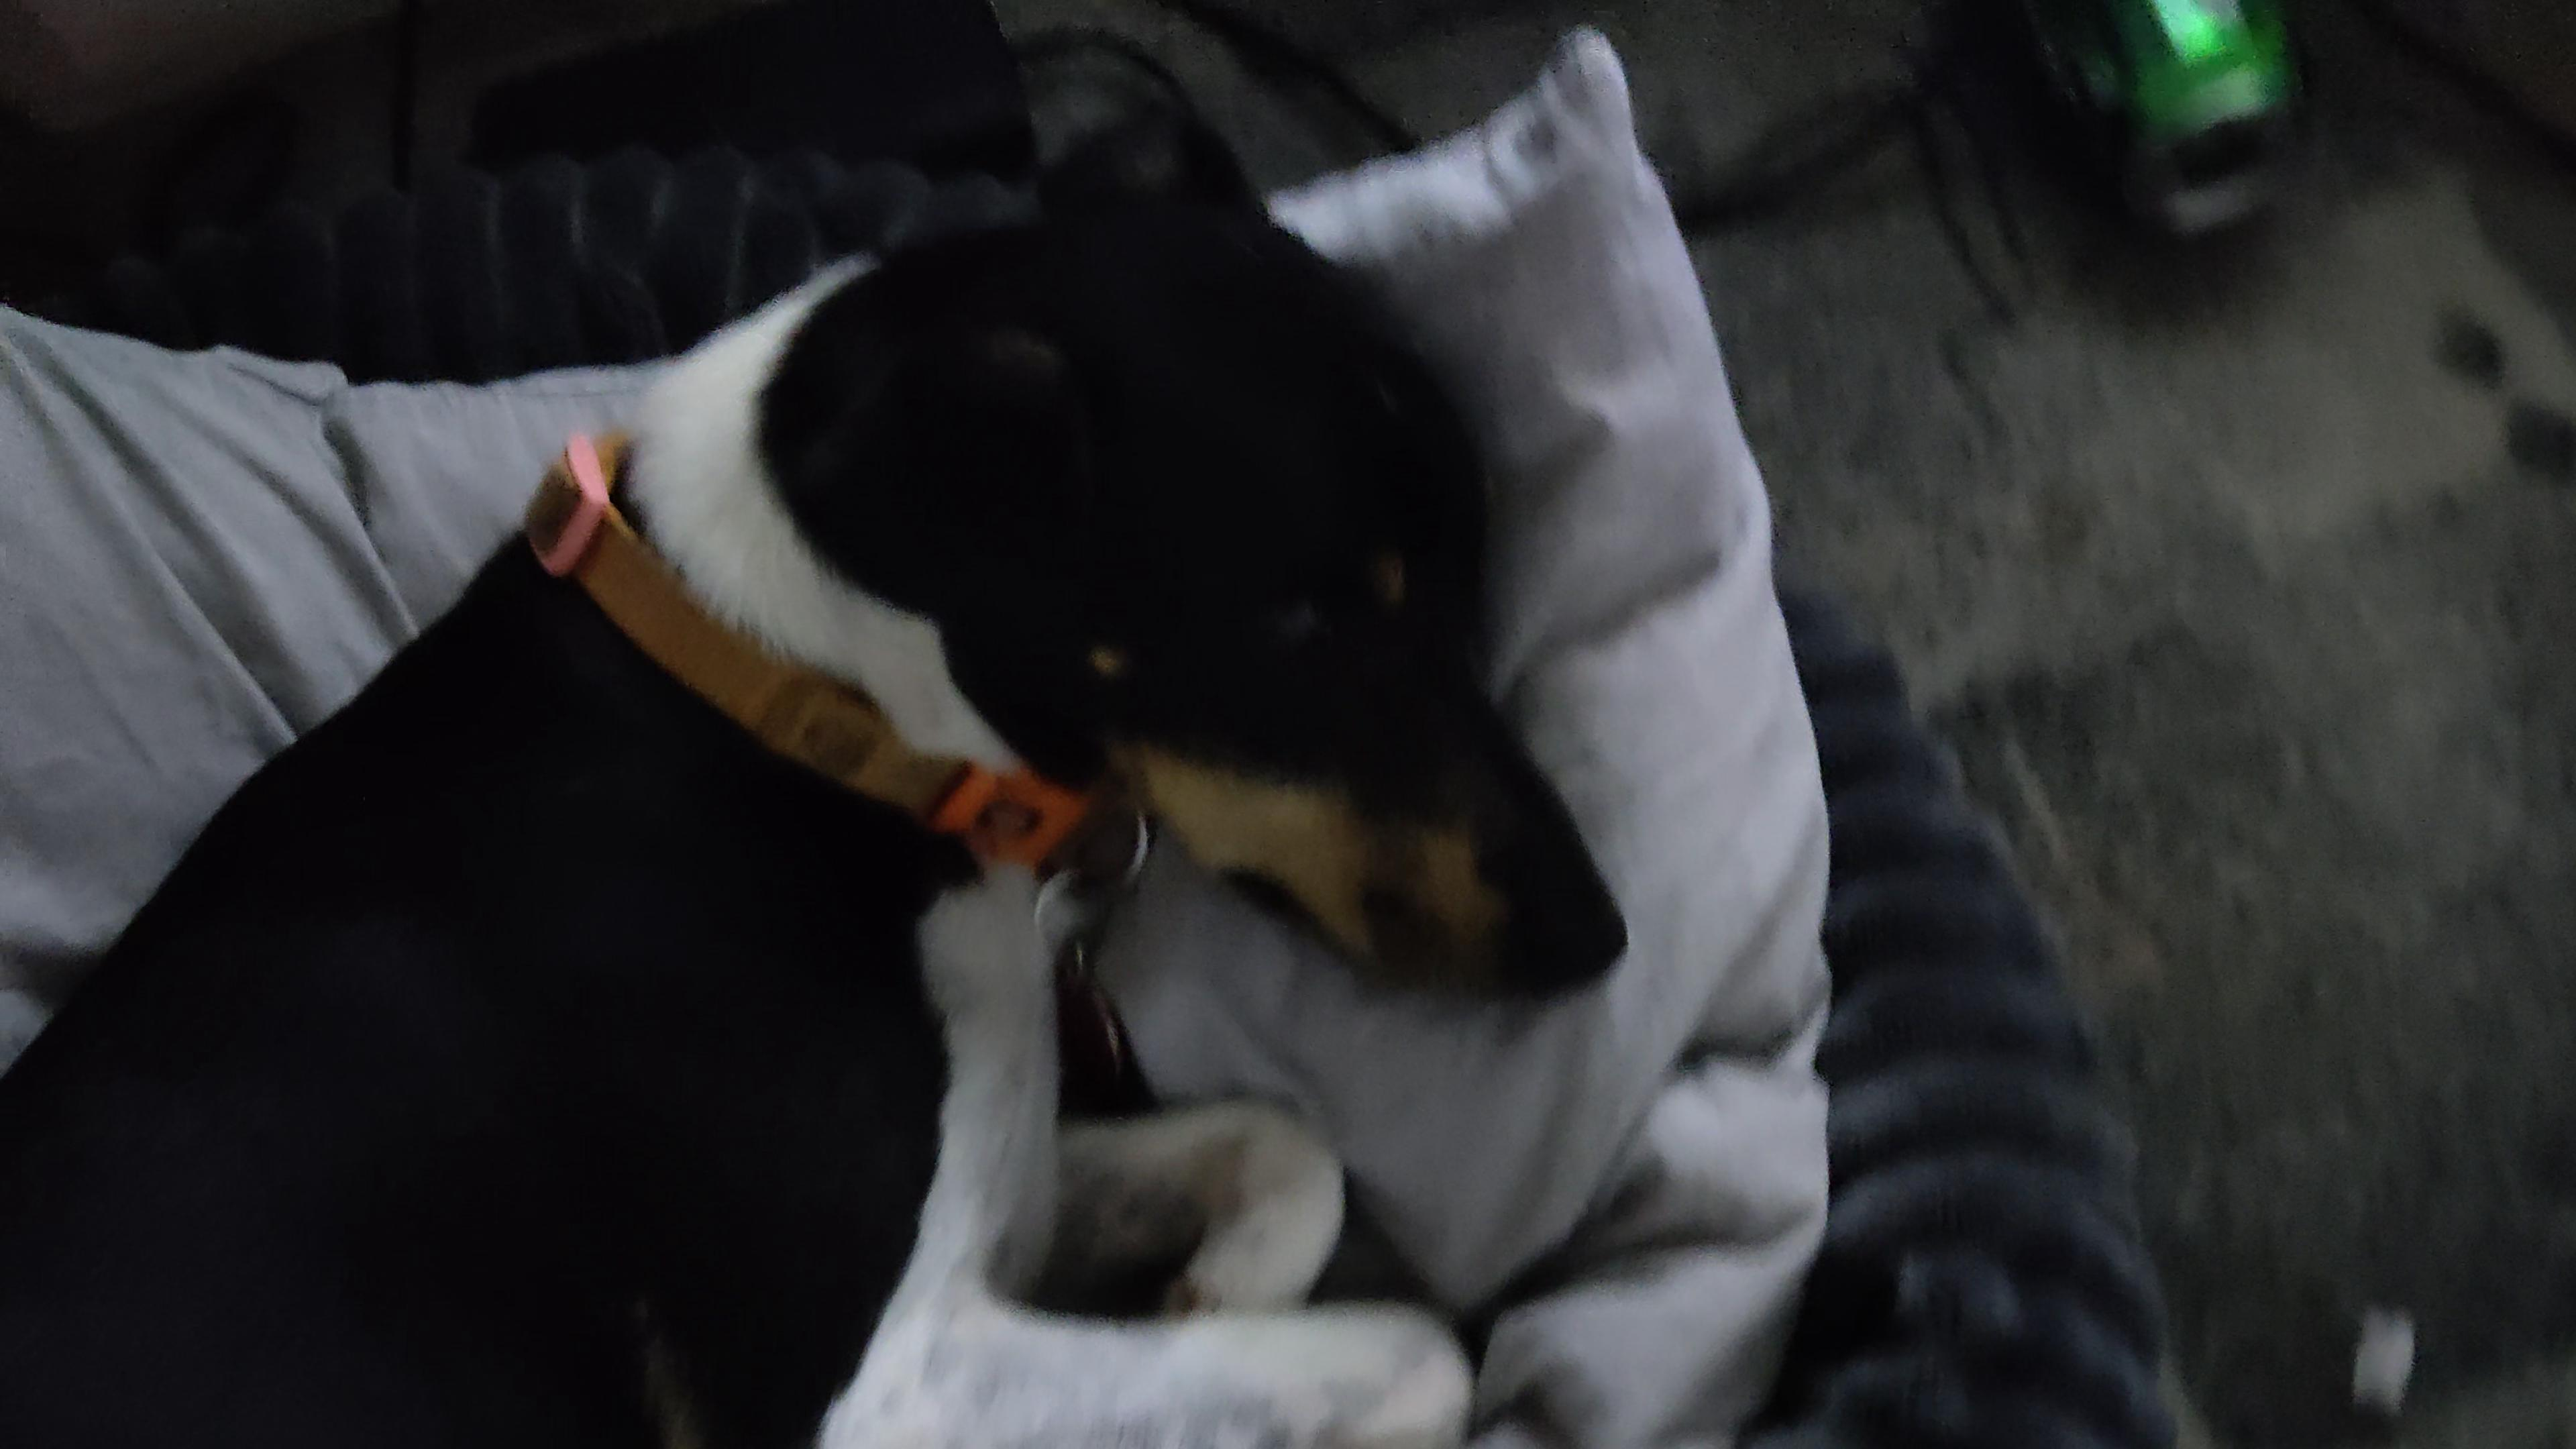Dog: (0, 80, 1665, 1449)
